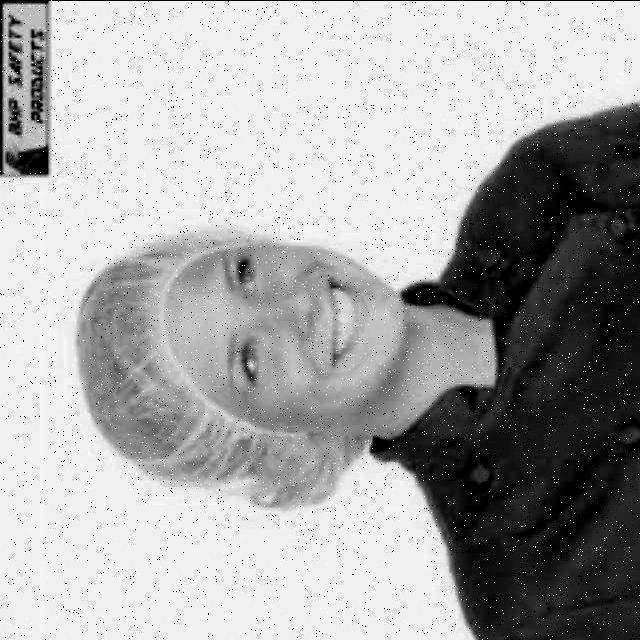no_hairnet: (284, 260, 406, 416)
